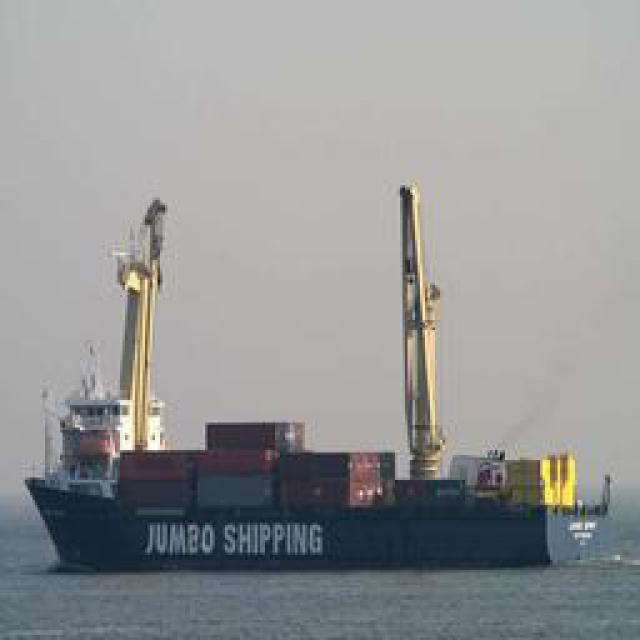Ship: (16, 437, 621, 575)
